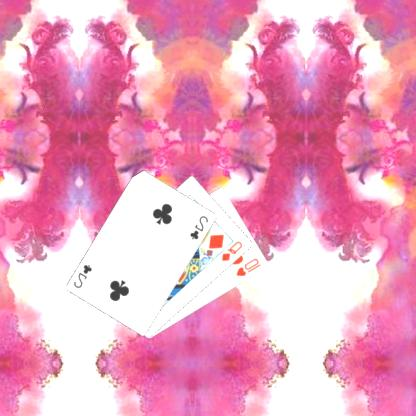10H: (235, 255, 265, 278)
2C: (189, 212, 212, 241), (73, 261, 95, 290)
QD: (221, 238, 245, 263)
